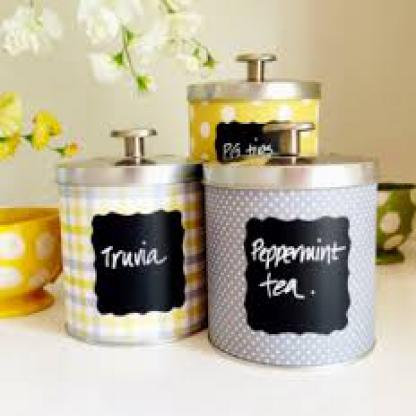BIODEGRADABLE: (75, 0, 158, 37), (2, 6, 57, 57), (122, 36, 152, 98), (171, 32, 214, 69), (131, 21, 172, 57), (160, 10, 196, 42), (79, 50, 120, 78), (27, 113, 57, 147), (0, 108, 24, 138), (161, 0, 190, 14), (0, 90, 20, 108), (0, 134, 20, 152), (56, 141, 75, 155)
METAL: (199, 120, 375, 361), (54, 124, 206, 345), (186, 50, 321, 156)
